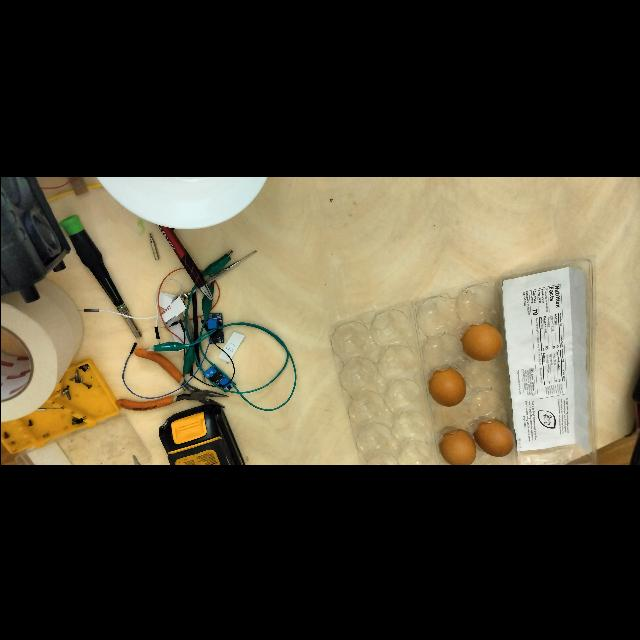Egg: (455, 316, 505, 364), (469, 414, 517, 458), (432, 421, 478, 464), (422, 364, 468, 406)
